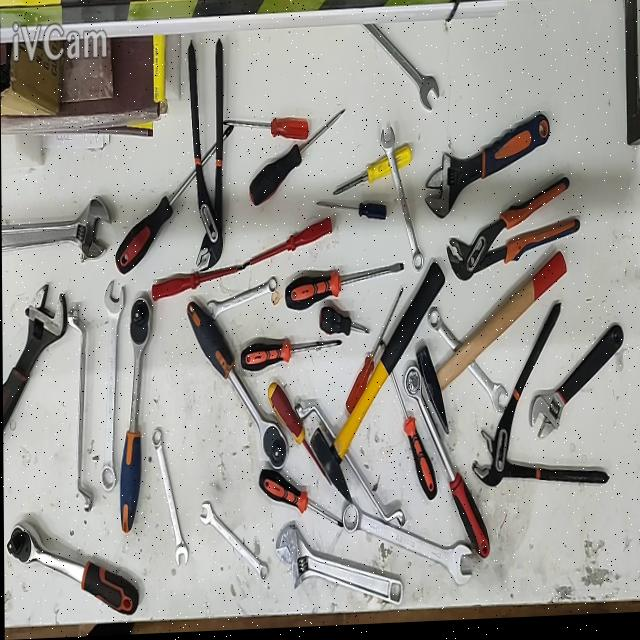Screwdriver: (115, 128, 236, 275), (379, 342, 437, 503), (250, 114, 344, 209), (344, 290, 403, 419), (268, 384, 331, 491), (284, 266, 403, 312), (258, 471, 342, 531), (244, 220, 333, 268), (331, 150, 411, 198), (152, 268, 246, 304), (240, 341, 341, 374), (223, 120, 309, 143), (319, 309, 369, 338), (316, 205, 386, 224)
